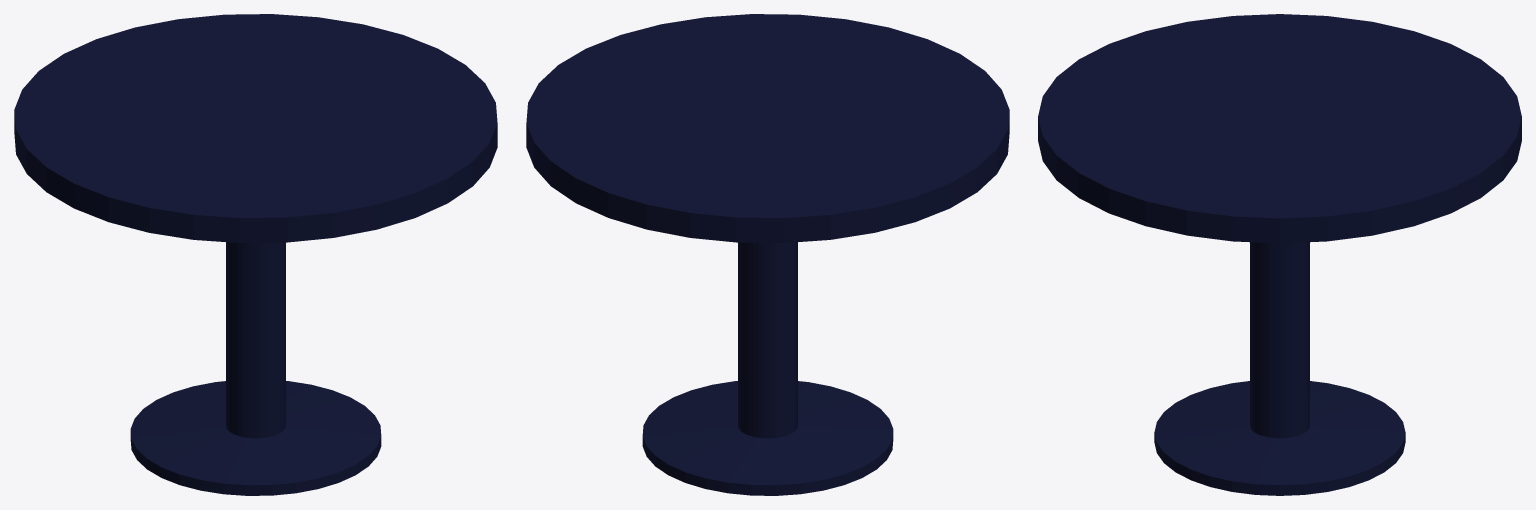
File: RoundTable.fbx
The picture shows the model from 3 angles, left to right: view 1: azimuth 30°, elevation 25°; view 2: azimuth 150°, elevation 25°; view 3: azimuth 270°, elevation 25°; orthographic projection.
Parts seen in each view (by area): view 1: Cylinder; view 2: Cylinder; view 3: Cylinder.
Part boxes in pixels (x1,y1,x2,y2): Cylinder: (14, 14, 497, 495); Cylinder: (526, 14, 1009, 495); Cylinder: (1038, 14, 1521, 495).
Bounding box in the file's own units: 319 × 238 × 319.
